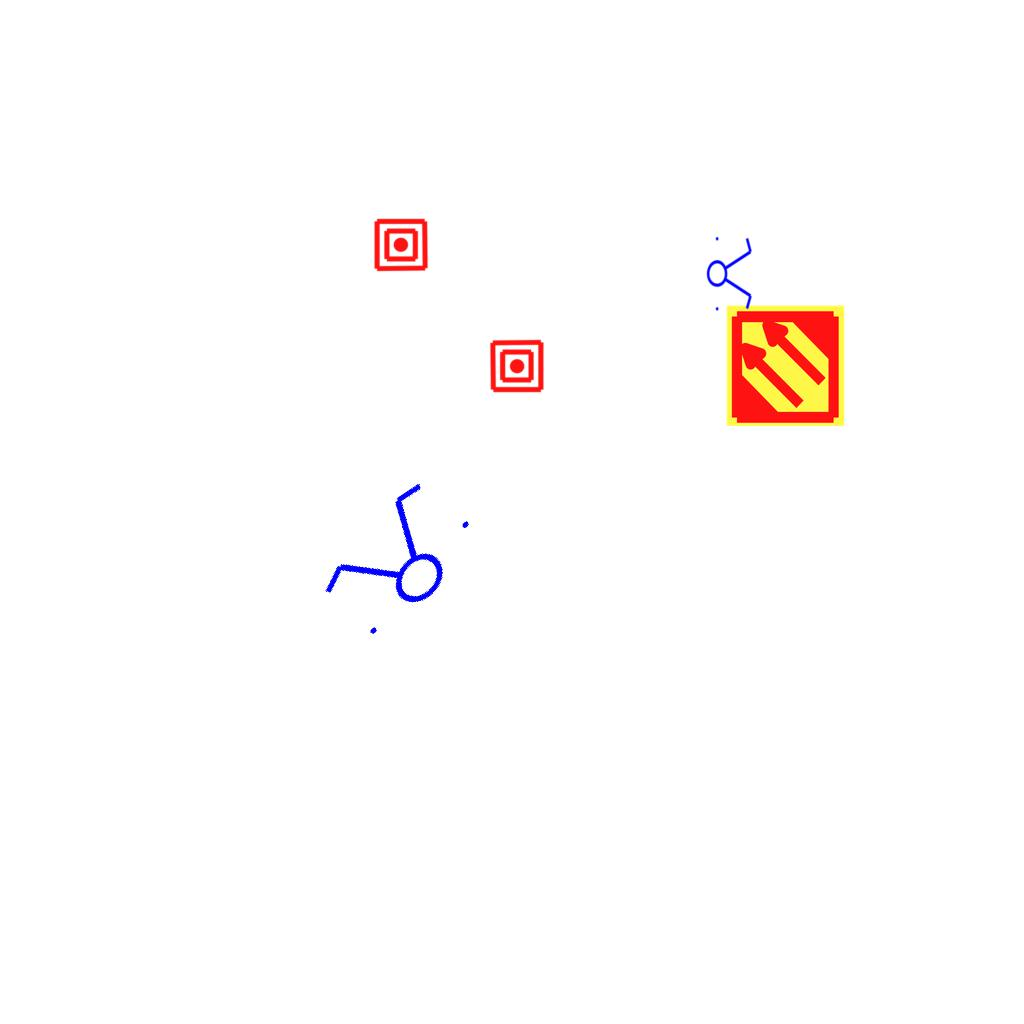ASR_Ansaugrauchmelder: (723, 303, 848, 428)
NAM-Nichtautomatischer_Melder: (489, 338, 545, 394), (373, 217, 429, 273)
Serienschalter: (307, 467, 491, 657), (706, 231, 754, 315)
